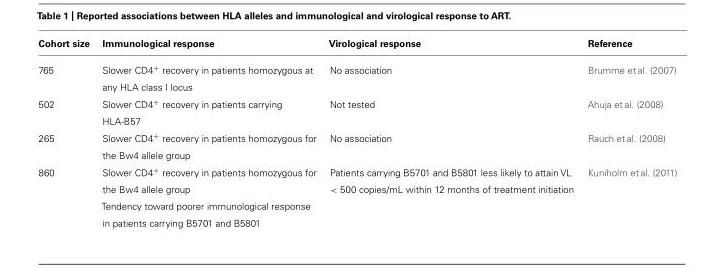table: (37, 37, 676, 228)
table column: (321, 37, 579, 228), (94, 37, 321, 228), (579, 37, 676, 228), (37, 37, 94, 228)
table column header: (37, 37, 676, 55)
table row: (37, 162, 676, 228), (37, 55, 676, 94), (37, 94, 676, 128), (37, 128, 676, 162), (37, 37, 676, 55)
